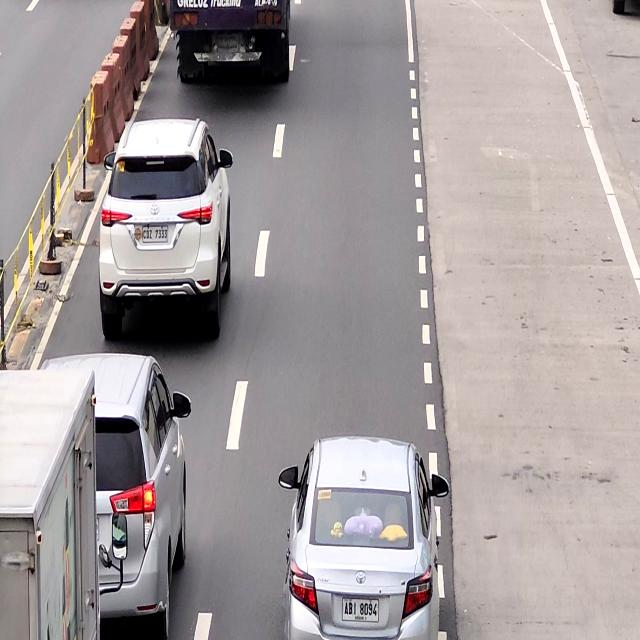Car: (288, 437, 440, 640), (95, 118, 228, 337), (96, 354, 188, 634)
License-Plate: (341, 594, 380, 624), (141, 226, 169, 246)
Truck: (0, 370, 95, 640), (169, 0, 293, 85)
